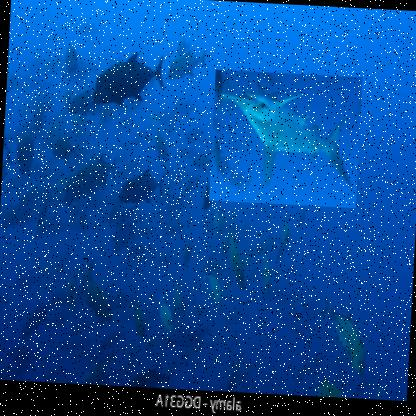hammerhead_Shark: (207, 69, 362, 209)
